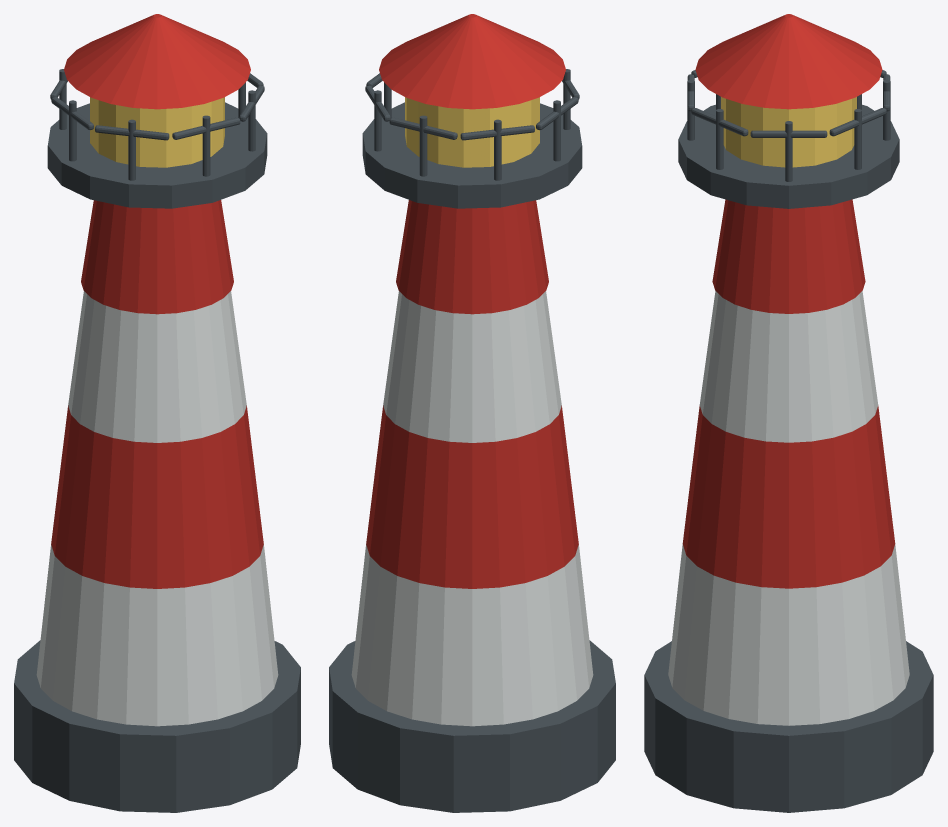
Rendered from 01_lighthouse.glb.
3 views of the same model, side by side, from view 1: azimuth 30°, elevation 25°; view 2: azimuth 150°, elevation 25°; view 3: azimuth 270°, elevation 25° (orthographic).
Visible parts, largest first — view 1: lighthouse_tower_shaft_0, lighthouse_tower_shaft_1, lighthouse_tower_foot, lighthouse_tower_shaft_2, lighthouse_tower_shaft_3, lighthouse_tower_roof, lighthouse_tower_gallery, lighthouse_tower_lantern, lighthouse_tower_gallery_rail_05_nocol, lighthouse_tower_gallery_rail_06_nocol; view 2: lighthouse_tower_shaft_0, lighthouse_tower_shaft_1, lighthouse_tower_foot, lighthouse_tower_shaft_2, lighthouse_tower_shaft_3, lighthouse_tower_roof, lighthouse_tower_gallery, lighthouse_tower_lantern, lighthouse_tower_gallery_rail_03_nocol, lighthouse_tower_gallery_rail_02_nocol; view 3: lighthouse_tower_shaft_0, lighthouse_tower_shaft_1, lighthouse_tower_foot, lighthouse_tower_shaft_2, lighthouse_tower_shaft_3, lighthouse_tower_roof, lighthouse_tower_gallery, lighthouse_tower_lantern, lighthouse_tower_gallery_rail_00_nocol.
Boxes of the visible parts, box(x1,y1,x2,y2) form: lighthouse_tower_shaft_0: box(36, 544, 278, 726); lighthouse_tower_shaft_1: box(51, 405, 263, 588); lighthouse_tower_foot: box(14, 640, 300, 812); lighthouse_tower_shaft_2: box(68, 291, 246, 442); lighthouse_tower_shaft_3: box(81, 200, 233, 314); lighthouse_tower_roof: box(64, 14, 250, 109); lighthouse_tower_gallery: box(47, 102, 267, 208); lighthouse_tower_lantern: box(90, 97, 224, 167); lighthouse_tower_gallery_rail_05_nocol: box(95, 125, 169, 140); lighthouse_tower_gallery_rail_06_nocol: box(172, 117, 240, 139); lighthouse_tower_shaft_0: box(351, 544, 593, 726); lighthouse_tower_shaft_1: box(366, 405, 578, 588); lighthouse_tower_foot: box(329, 640, 615, 812); lighthouse_tower_shaft_2: box(383, 291, 561, 442); lighthouse_tower_shaft_3: box(396, 200, 548, 314); lighthouse_tower_roof: box(379, 14, 565, 109); lighthouse_tower_gallery: box(362, 102, 582, 208); lighthouse_tower_lantern: box(405, 97, 539, 167); lighthouse_tower_gallery_rail_03_nocol: box(460, 125, 534, 140); lighthouse_tower_gallery_rail_02_nocol: box(389, 117, 457, 139); lighthouse_tower_shaft_0: box(668, 544, 909, 725); lighthouse_tower_shaft_1: box(682, 405, 895, 588); lighthouse_tower_foot: box(644, 641, 933, 812); lighthouse_tower_shaft_2: box(699, 291, 878, 442); lighthouse_tower_shaft_3: box(712, 199, 865, 313); lighthouse_tower_roof: box(695, 14, 882, 109); lighthouse_tower_gallery: box(678, 104, 899, 208); lighthouse_tower_lantern: box(721, 97, 856, 167); lighthouse_tower_gallery_rail_00_nocol: box(750, 130, 827, 137).
Bounding box in the file's own units: 34 × 95.5 × 34.
